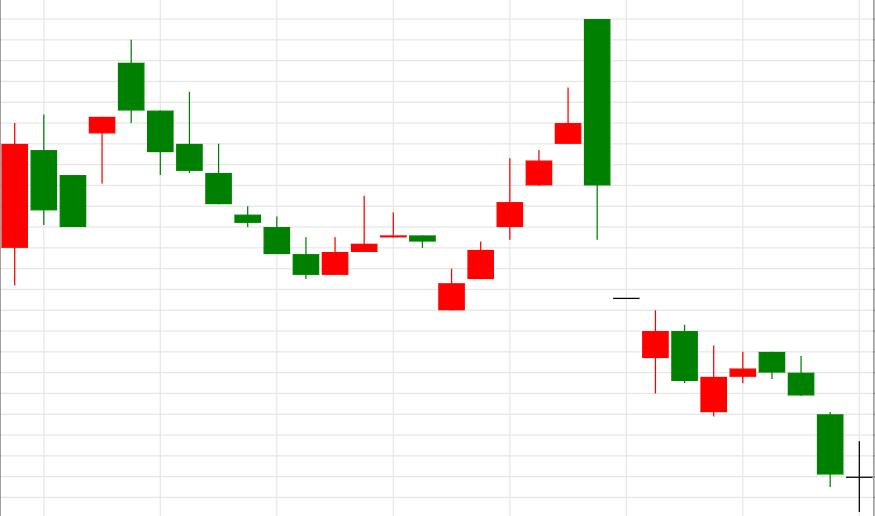bearish_engulfing_fall: (438, 18, 610, 311)
